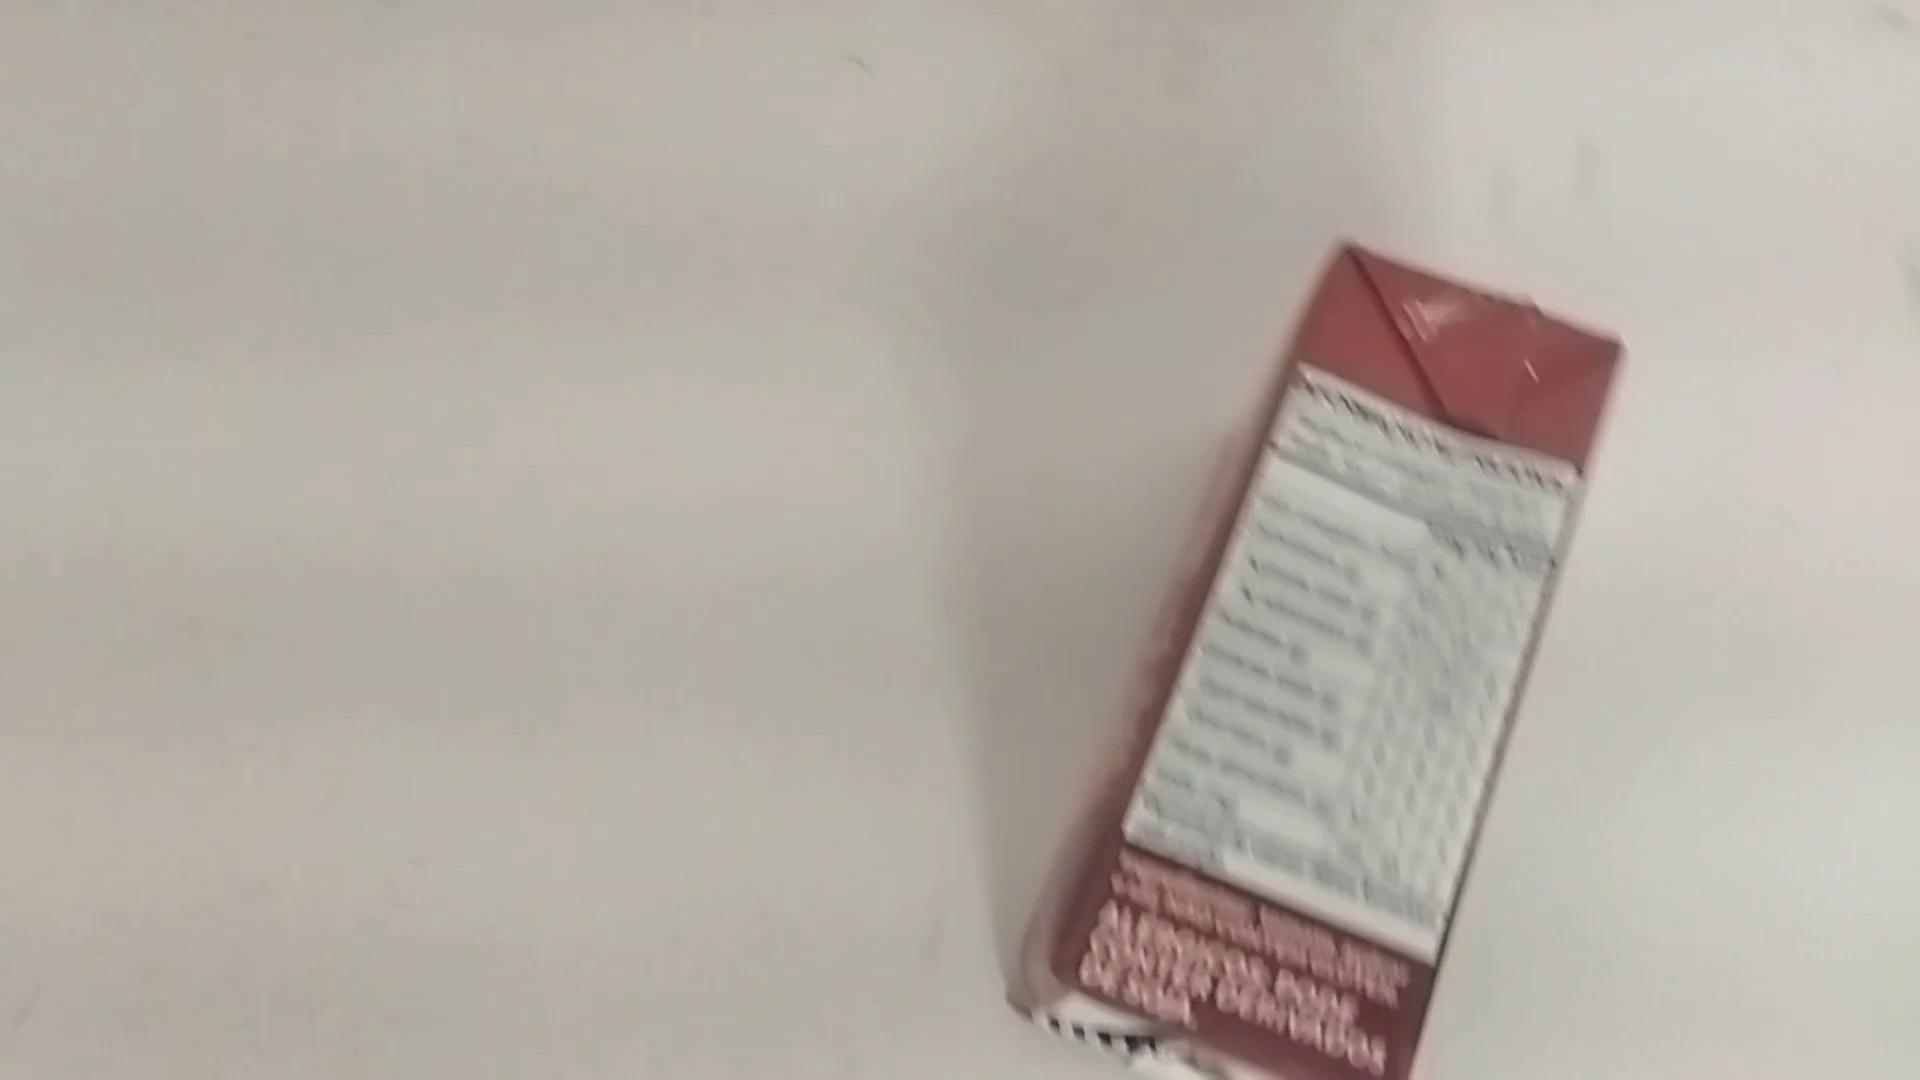tomate: (1015, 239, 1619, 1079)
